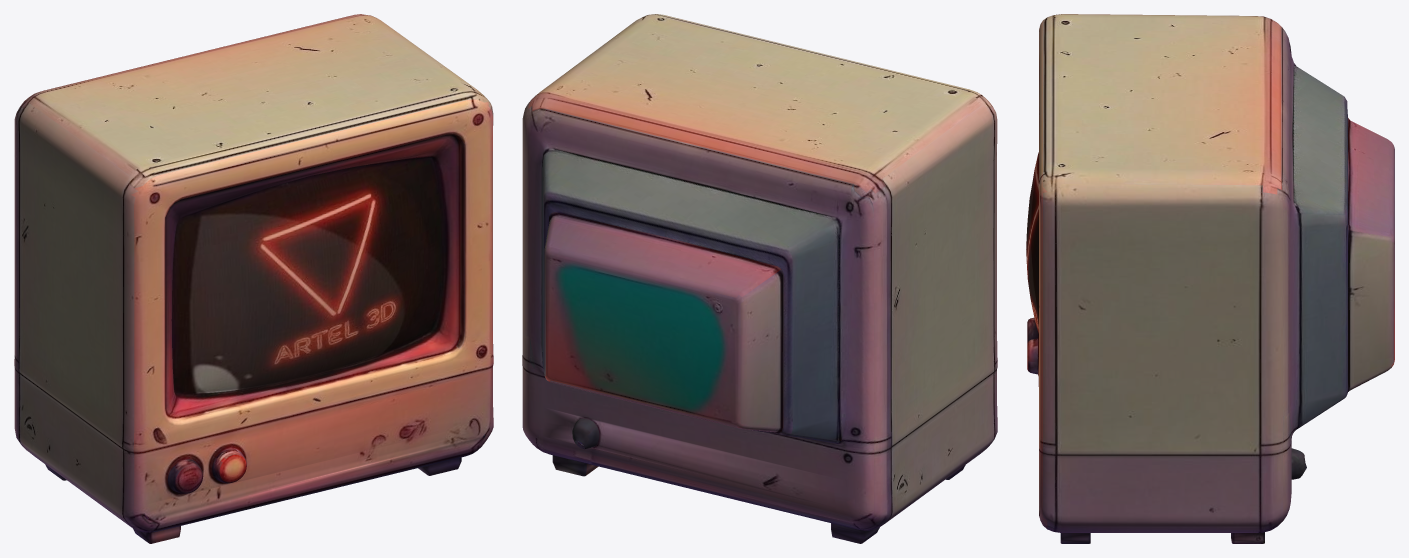
Rendered from new-monitor.glb.
The picture shows the model from 3 angles, left to right: view 1: azimuth 30°, elevation 25°; view 2: azimuth 150°, elevation 25°; view 3: azimuth 270°, elevation 25°; orthographic projection.
Parts seen in each view (by area): view 1: material_0; view 2: material_0; view 3: material_0.
Boxes of the visible parts, x1,y1,x2,y2 form: material_0: (14,14,493,543); material_0: (522,14,997,543); material_0: (1026,14,1394,543).
Bounding box in the file's own units: 0.5197 × 0.5122 × 0.455.
1 material, 1 textured.
